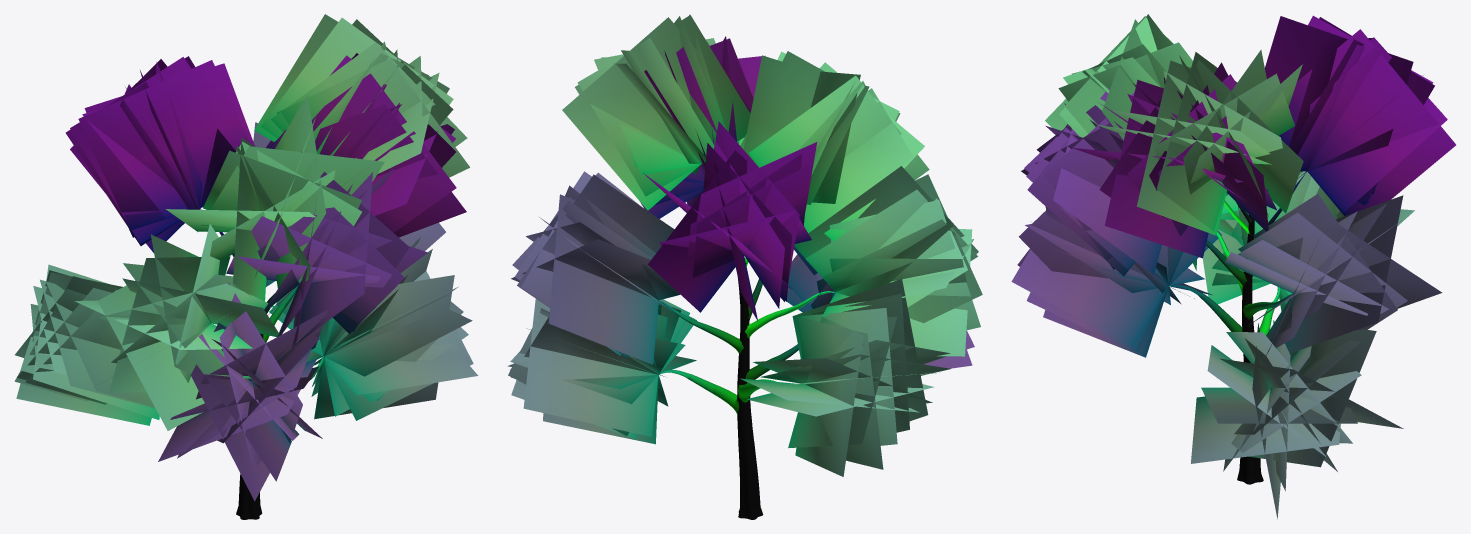
Rendered from URP_P6_Tree_2_LOD_0.fbx.
The picture shows the model from 3 angles, left to right: view 1: azimuth 30°, elevation 25°; view 2: azimuth 150°, elevation 25°; view 3: azimuth 270°, elevation 25°; orthographic projection. The views are drawn at different scales.
Parts seen in each view (by area): view 1: Tree_2_LOD_0; view 2: Tree_2_LOD_0; view 3: Tree_2_LOD_0.
Part boxes in pixels (x1,y1,x2,y2): Tree_2_LOD_0: [14, 14, 478, 519]; Tree_2_LOD_0: [507, 14, 982, 519]; Tree_2_LOD_0: [1011, 14, 1455, 519].
Size of the model in its own units: 532 by 569 by 480.
